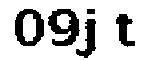0: (9, 6, 44, 50)
9: (44, 7, 81, 48)
j: (81, 6, 105, 60)
t: (110, 9, 140, 51)
